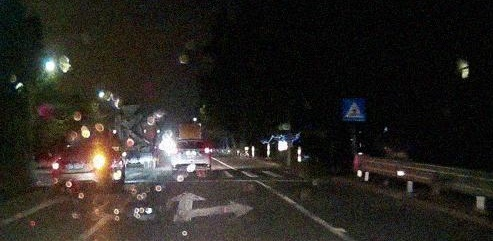L_light: (52, 162, 65, 170), (172, 150, 183, 154)
R_light: (84, 158, 105, 166), (199, 149, 209, 153)
T_light: (78, 149, 86, 151)
night-no: (171, 140, 211, 174)
night-right: (52, 146, 106, 193)
